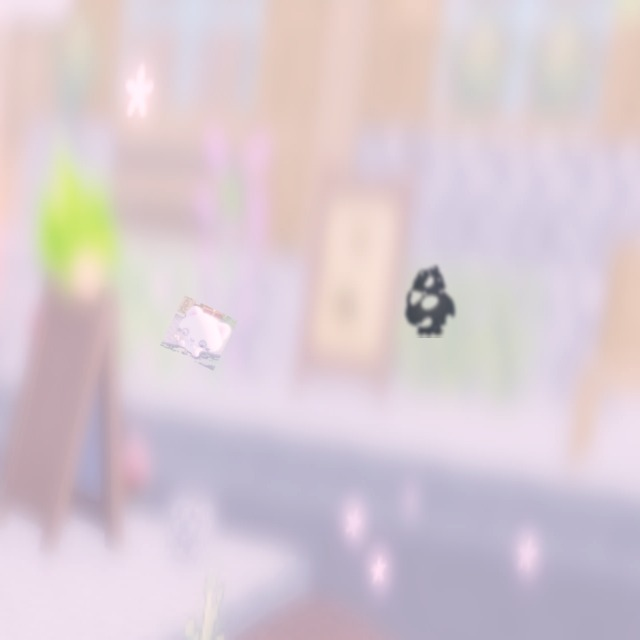urso_branco: (160, 295, 238, 371)
urso_preto: (399, 260, 462, 338)
